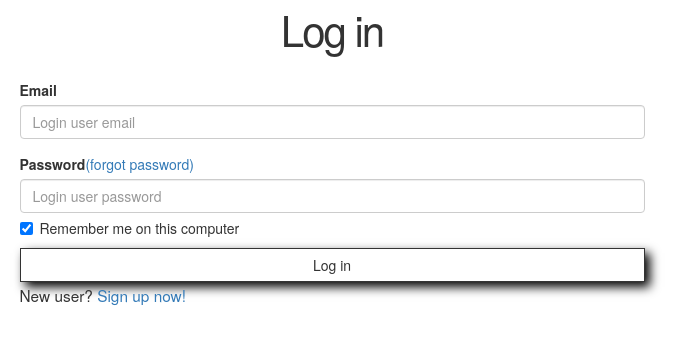
Login Page › shows validation errors when submitting empty form
Click the button showing "Log in" at [332, 265], box left=20, top=248, right=644, bottom=282
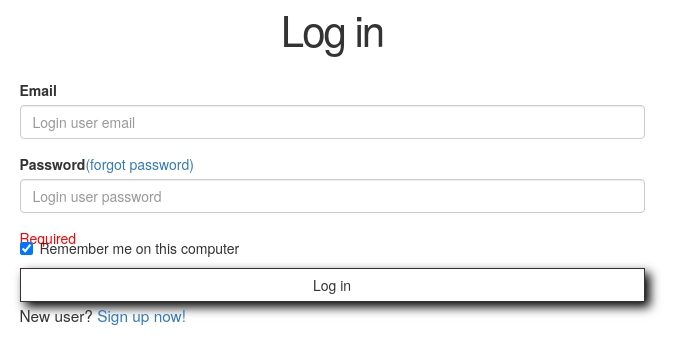
expect the text "Required" is shown: met, box left=20, top=228, right=76, bottom=248
